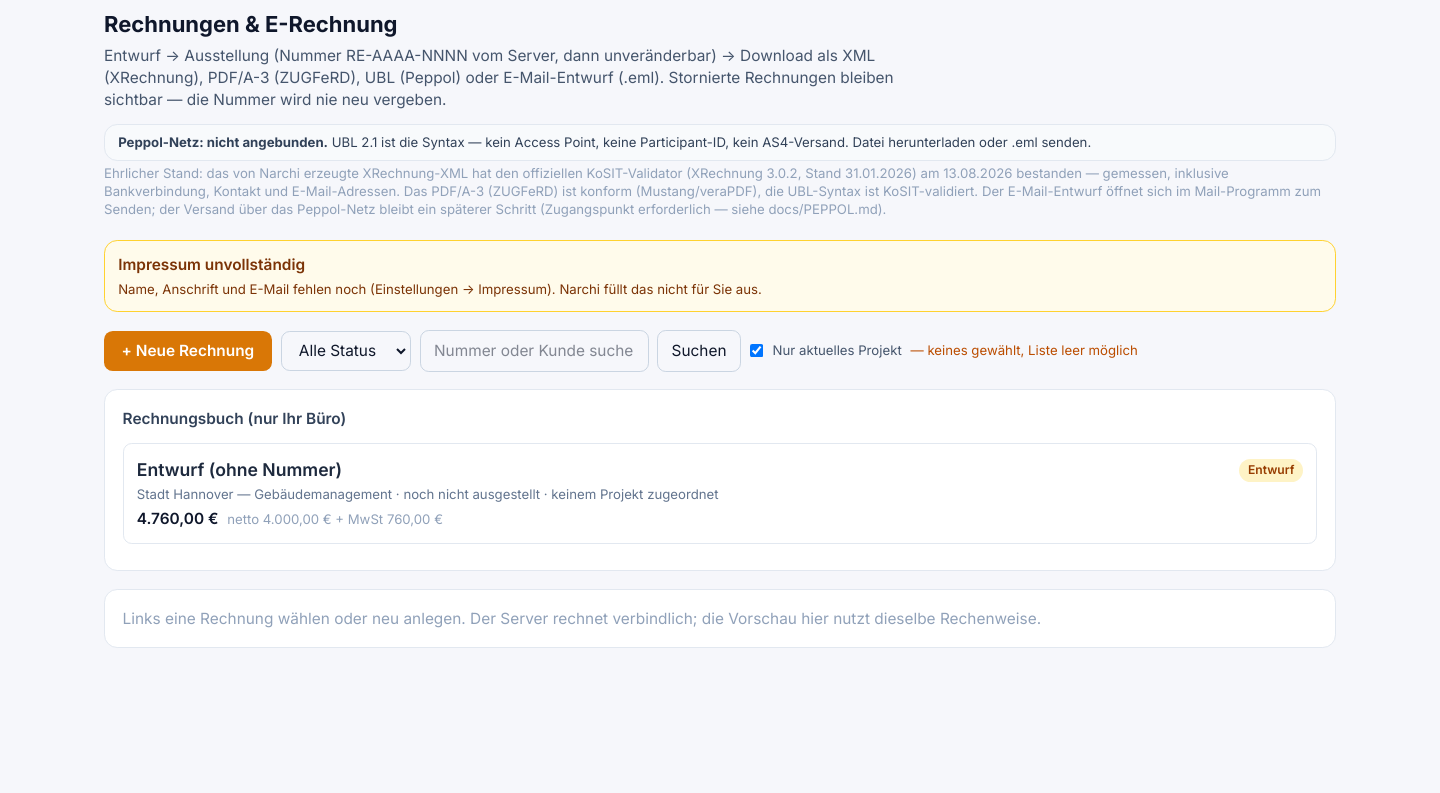
Scenario: Page Rechnungen §116 › §231 Lückenliste : leere Anschrift/Leitweg/IBAN werden genannt, Ausstellen gesperrt
The image size is (1440, 793).
Click the button that starts with "Entwurf (ohne Nummer)".
click(720, 493)  # box [123,443,1317,544]
(page scrolled)
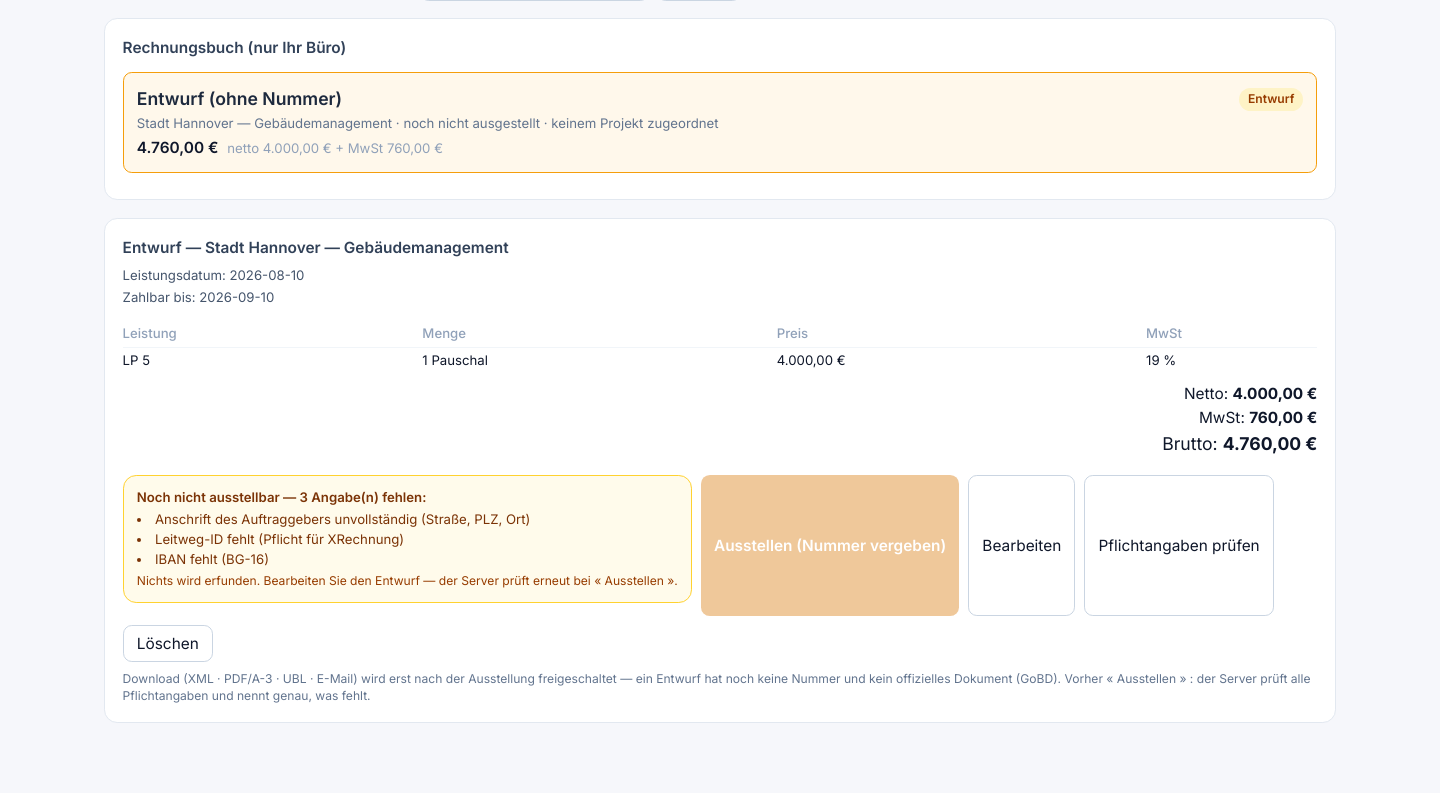
Check: the text "Noch nicht ausstellbar" is shown, box [137,489,300,505]
Check: the text "Leitweg-ID fehlt" is shown, box [155,531,404,547]
Check: the button "Ausstellen (Nummer vergeben)" is disabled, box [701,475,959,616]
